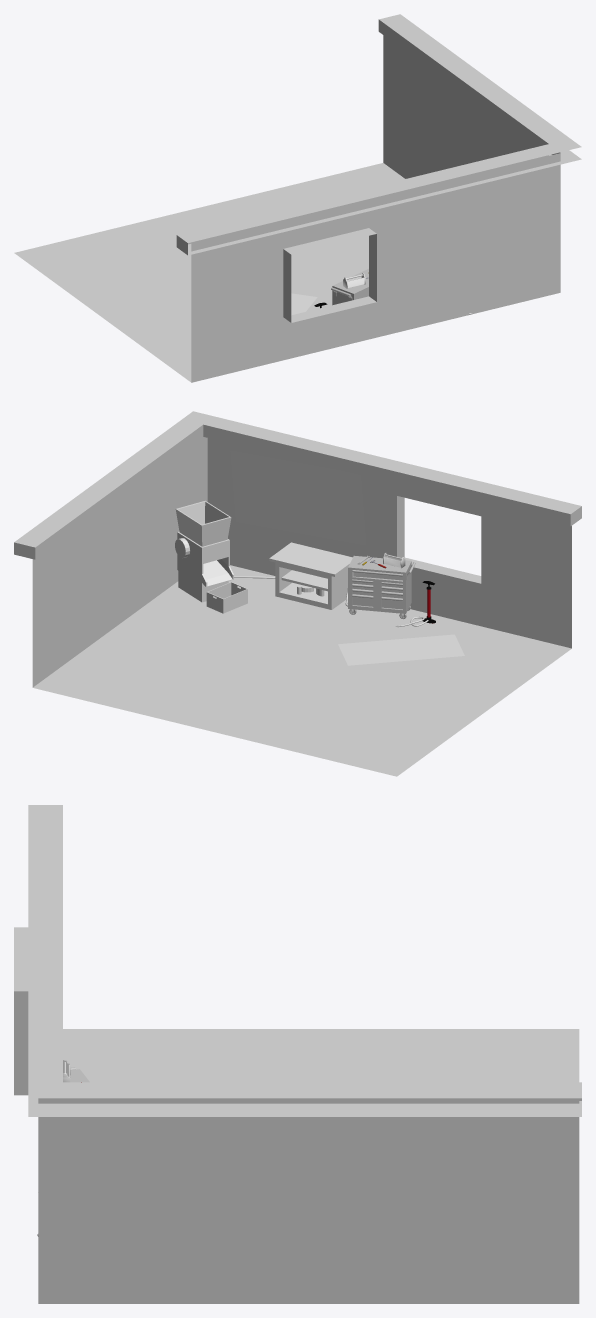
Rendered from garage_v1.fbx.
3 renders of one model, top to bottom at view 1: azimuth 30°, elevation 25°; view 2: azimuth 150°, elevation 25°; view 3: azimuth 270°, elevation 25°, orthographic. The views are drawn at different scales.
Visible parts, largest first — view 1: Garage_walls_floor, Cube.023; view 2: Garage_walls_floor, Map, Grinder, Combining, Cube.023, Car_spot, Scrap collector; view 3: Garage_walls_floor.
Boxes of the visible parts, x1,y1,x2,y2 form: Garage_walls_floor: (14,14,581,382); Cube.023: (332,268,368,305); Garage_walls_floor: (14,411,581,776); Map: (230,450,366,545); Grinder: (175,500,233,602); Combining: (269,542,352,609); Cube.023: (348,555,411,613); Car_spot: (338,634,464,665); Scrap collector: (206,582,247,613); Garage_walls_floor: (14,805,581,1303).
Size of the model in its own units: 878 by 306 by 719.
